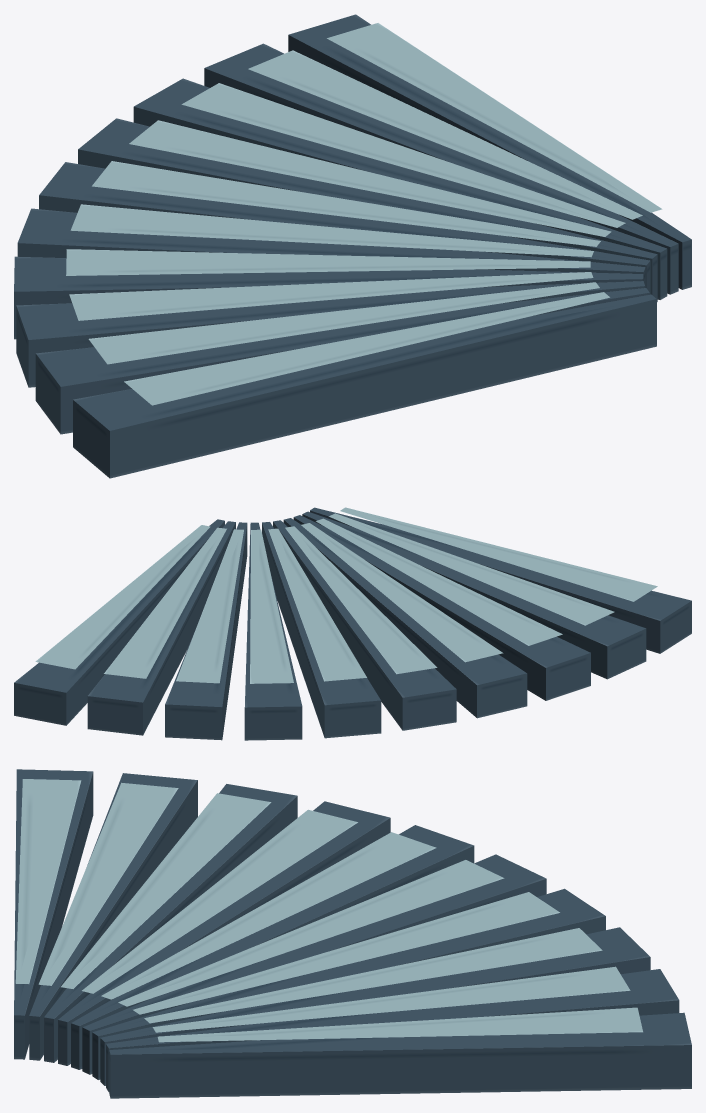
File: sc_tread_curve_right_6.obj
3 views of the same model, one above another, from view 1: azimuth 30°, elevation 25°; view 2: azimuth 150°, elevation 25°; view 3: azimuth 270°, elevation 25° (orthographic). The views are drawn at different scales.
Bounding box in the file's own units: 17.4 × 1.56 × 17.47.
1 material, 1 textured.
